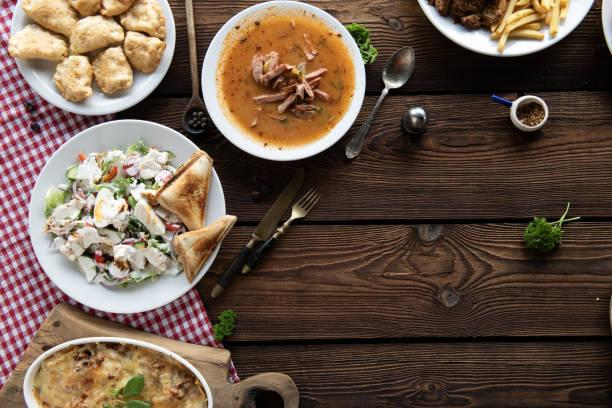Braised Crucian Carp: (27, 118, 227, 310), (200, 1, 363, 162), (9, 0, 173, 115)
